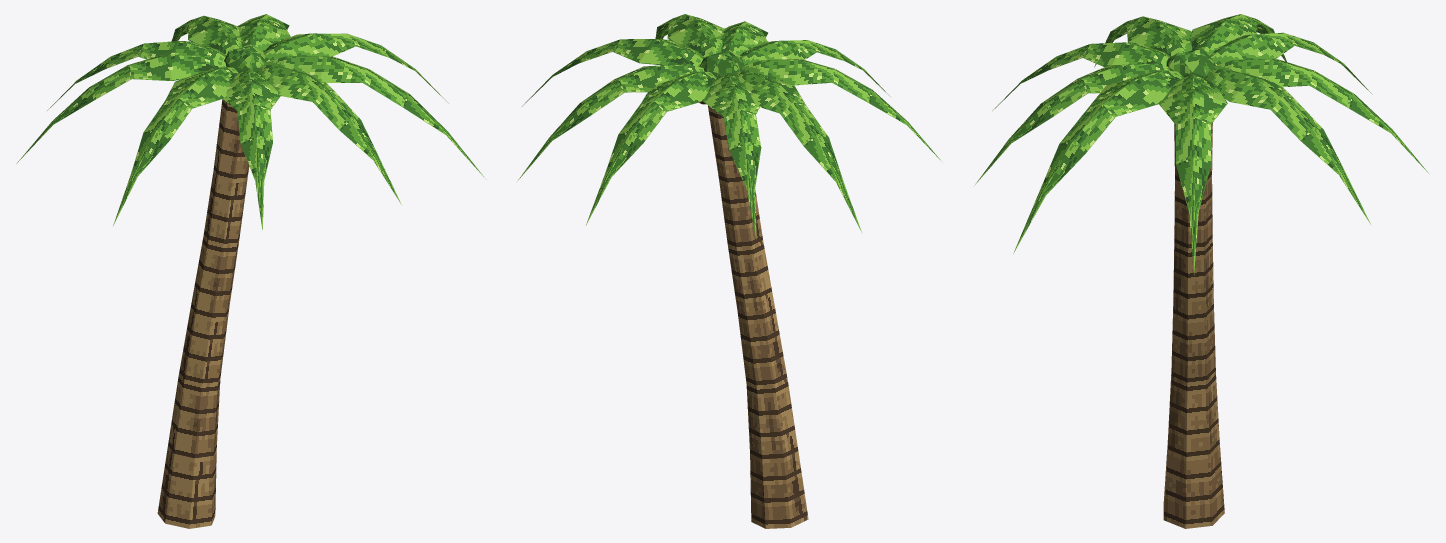
The model's file is tree_palm.glb.
The picture shows the model from 3 angles, left to right: view 1: azimuth 30°, elevation 25°; view 2: azimuth 150°, elevation 25°; view 3: azimuth 270°, elevation 25°; orthographic projection. The views are drawn at different scales.
Parts seen in each view (by area): view 1: tree_palm; view 2: tree_palm; view 3: tree_palm.
Boxes of the visible parts, x1=… form: tree_palm: x1=16, y1=14, x2=486, y2=528; tree_palm: x1=518, y1=14, x2=941, y2=528; tree_palm: x1=975, y1=14, x2=1429, y2=528.
Bounding box in the file's own units: 3.23 × 3.6 × 3.02.
2 materials, 2 textured.
